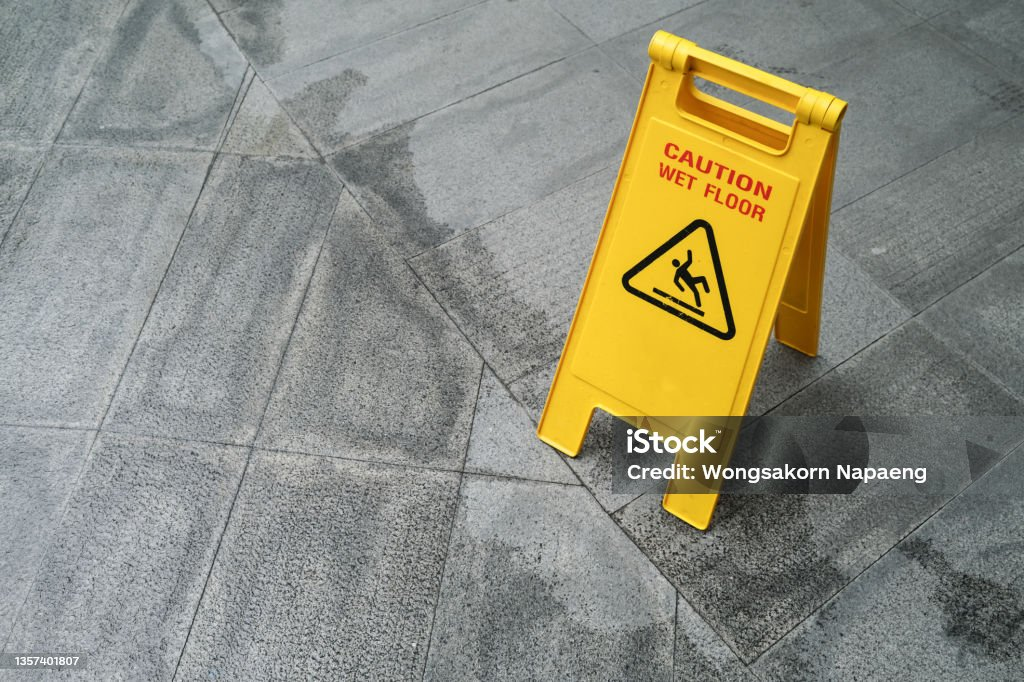wet caution sign: (589, 9, 828, 406)
